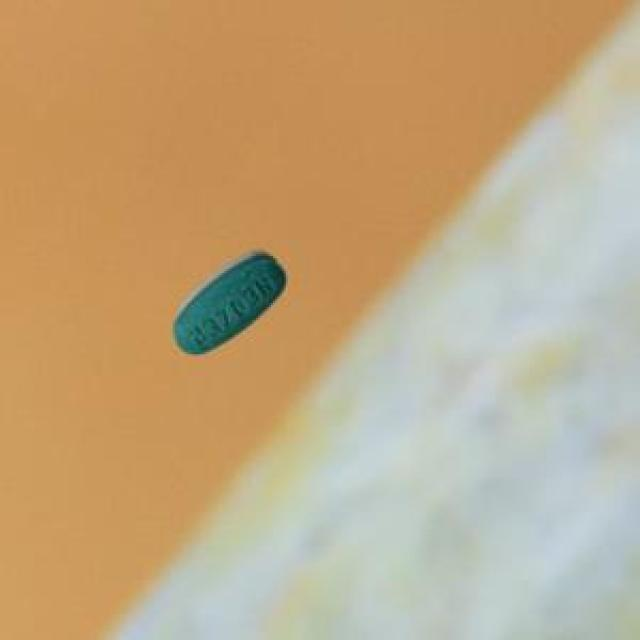Neozep: (159, 244, 294, 368)
